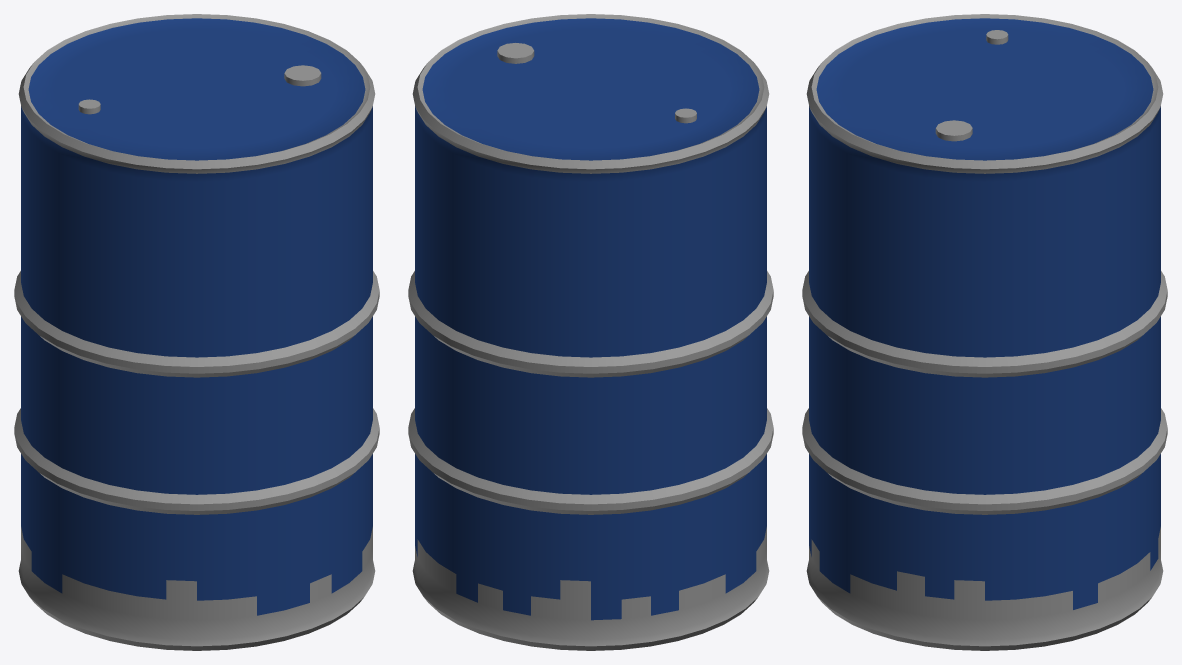
File: oil_drum.glb
3 views of the same model, side by side, from view 1: azimuth 30°, elevation 25°; view 2: azimuth 150°, elevation 25°; view 3: azimuth 270°, elevation 25° (orthographic).
Parts seen in each view (by area): view 1: oil_drum; view 2: oil_drum; view 3: oil_drum.
Part boxes in pixels (x1=…): oil_drum: x1=14, y1=14, x2=379, y2=650; oil_drum: x1=408, y1=14, x2=773, y2=650; oil_drum: x1=802, y1=14, x2=1167, y2=650.
Size of the model in its own units: 0.594 by 0.886 by 0.594.
